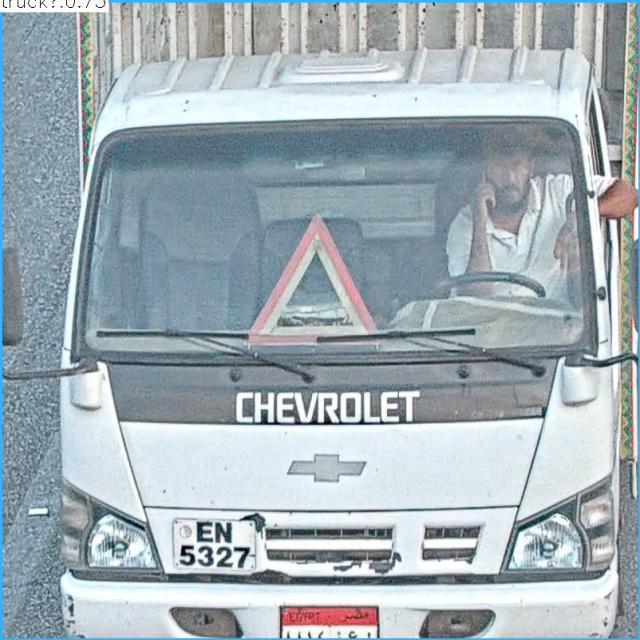windshield: (66, 120, 594, 358)
